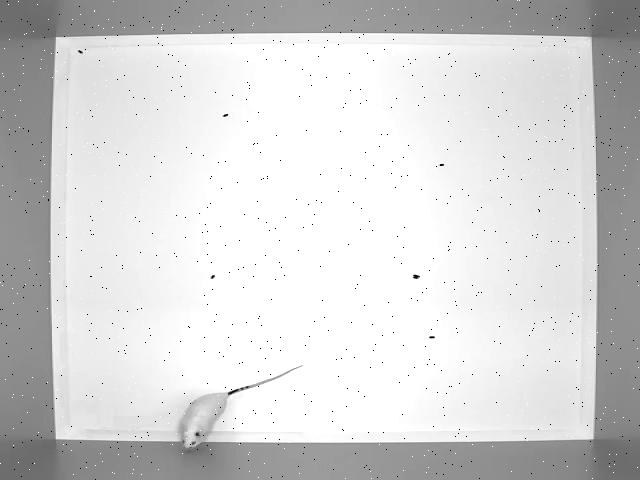Tikus: (179, 364, 307, 451)
